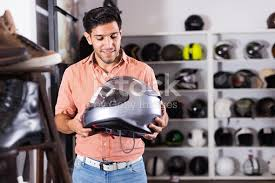helmet: (85, 77, 166, 138)
